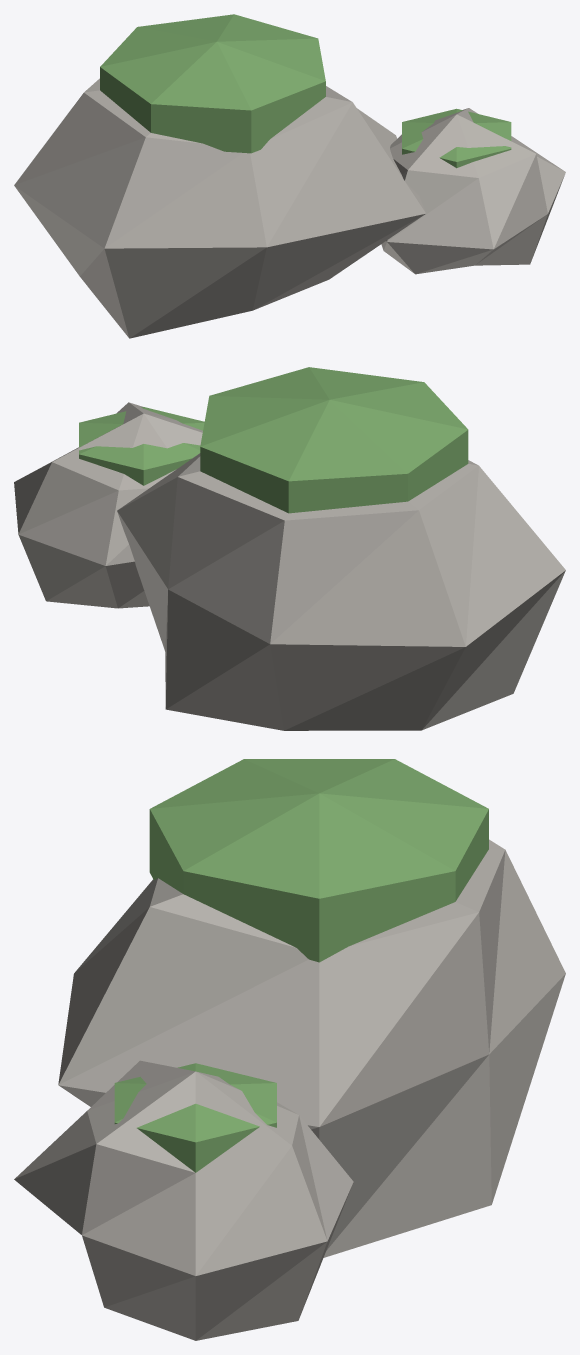
Rendered from moss_rock_large.glb.
3 views of the same model, one above another, from view 1: azimuth 30°, elevation 25°; view 2: azimuth 150°, elevation 25°; view 3: azimuth 270°, elevation 25° (orthographic). The views are drawn at different scales.
Visible parts, largest first — view 1: moss_rock_large; view 2: moss_rock_large; view 3: moss_rock_large.
Part boxes in pixels (x1,y1,x2,y2): moss_rock_large: (14, 14, 565, 338); moss_rock_large: (14, 367, 565, 730); moss_rock_large: (14, 759, 565, 1340).
Bounding box in the file's own units: 5.17 × 2.61 × 3.57.
